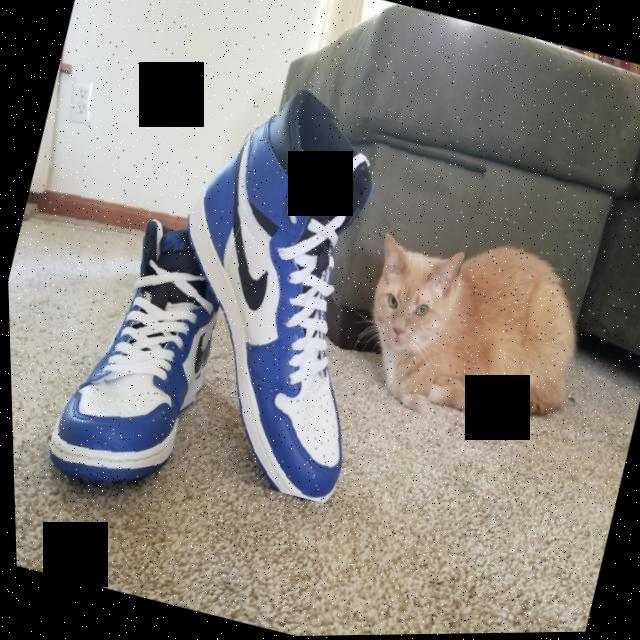shoe: (115, 81, 497, 527), (2, 91, 267, 543)
